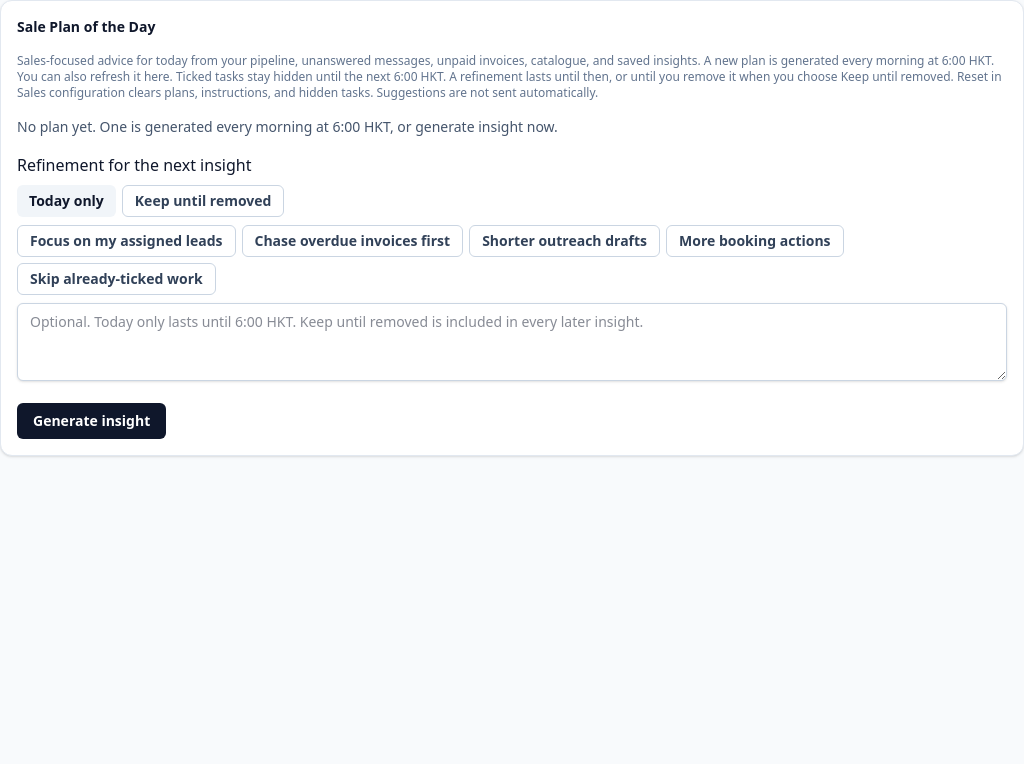
SalePlanOfTheDayCard › loads empty state and generates a plan on demand
Expected: the text "No plan yet" is shown, x1=17 y1=117 x2=558 y2=136
Expected: the text "every morning at 6:00 HKT" is shown, x1=17 y1=52 x2=1002 y2=101
Click the button "Generate insight": [92, 421] box x1=17 y1=403 x2=166 y2=439
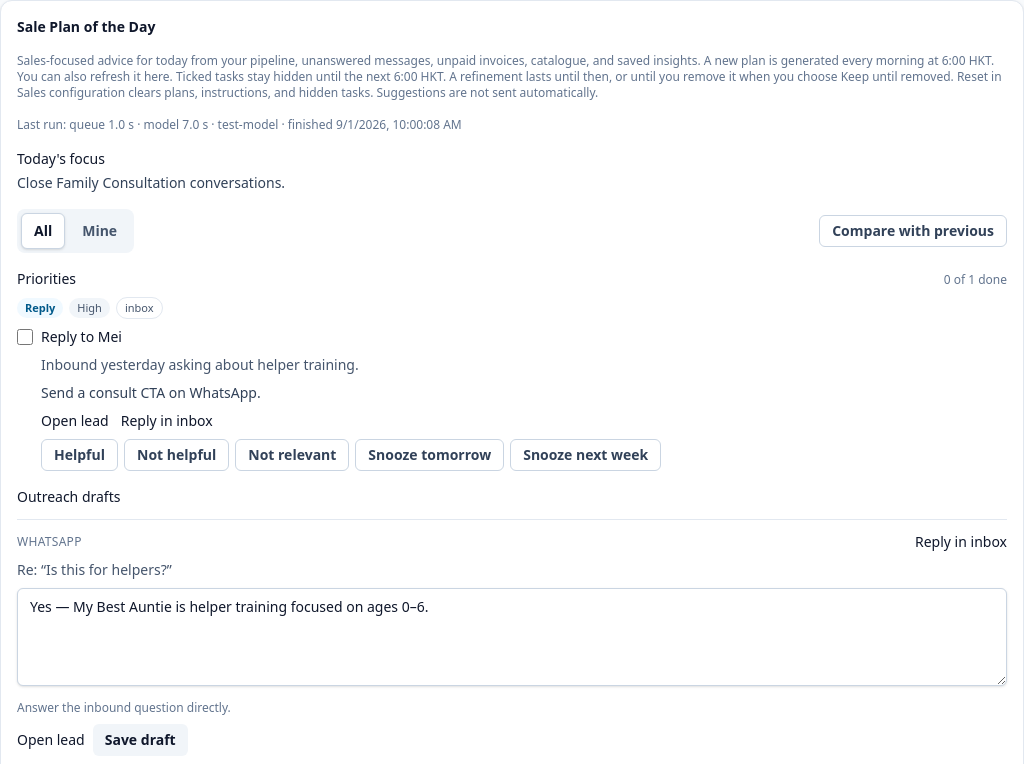
Expected: the text "Close Family Consultation conversations." is shown, x1=17 y1=173 x2=285 y2=192
Expected: the text "Reply to Mei" is shown, x1=41 y1=327 x2=122 y2=347
Expected: the link "Open lead" below "High" is shown, x1=41 y1=411 x2=109 y2=431
